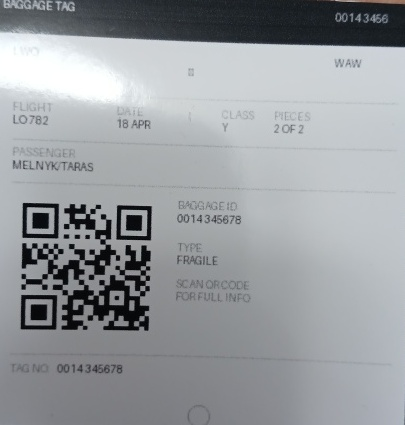LPN_bottom: (53, 358, 127, 378)
LPN_right: (175, 210, 245, 229)
